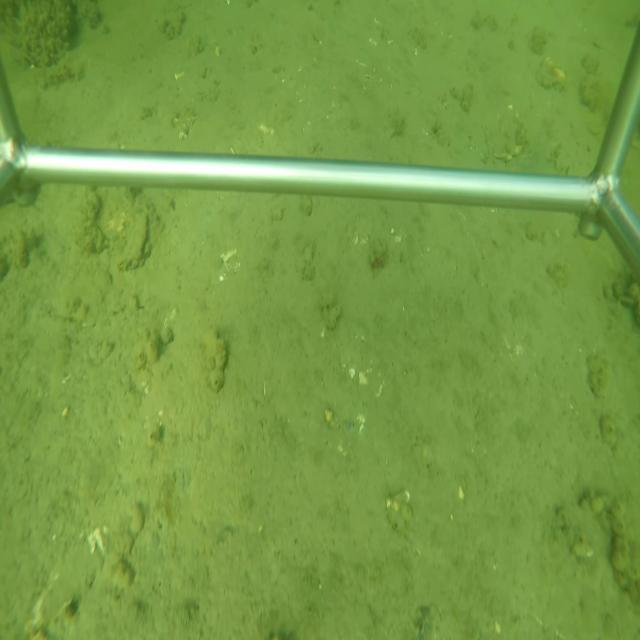Oyster-Open: (123, 206, 155, 271)
